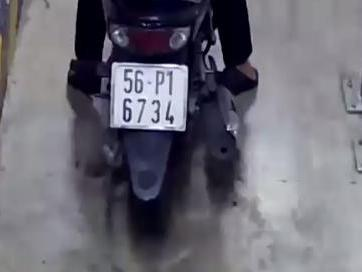num_plate: (107, 60, 187, 134)
